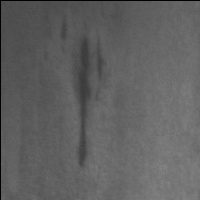inclusion: (67, 29, 111, 170)
